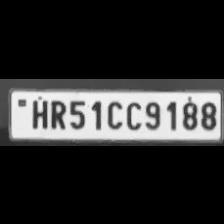1: (162, 97, 180, 130), (86, 97, 104, 129)
5: (66, 97, 88, 129)
8: (196, 98, 218, 130), (178, 97, 198, 130)
9: (142, 98, 162, 130)
C: (122, 98, 142, 130), (104, 97, 122, 129)
H: (26, 96, 48, 128)
R: (47, 96, 66, 128)
